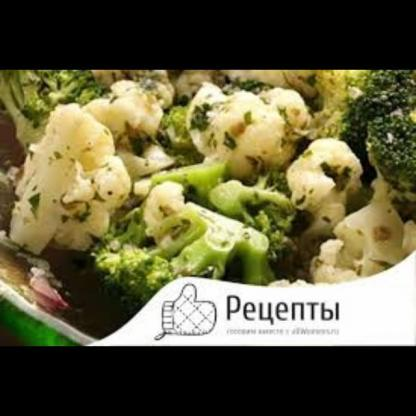broccoli: (96, 208, 234, 306), (322, 69, 416, 190), (0, 68, 101, 133)
cayliflower: (113, 69, 321, 176), (10, 94, 134, 272), (278, 121, 416, 280)
